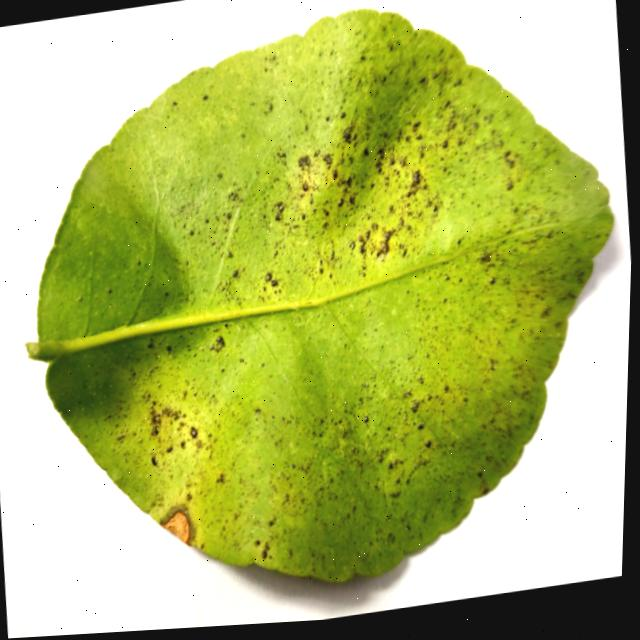melanose: (27, 9, 612, 580)
